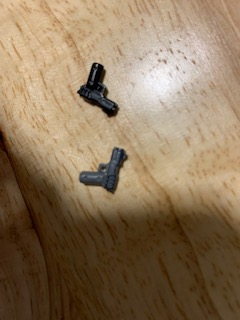pistol: (77, 61, 122, 119), (76, 146, 129, 195)
